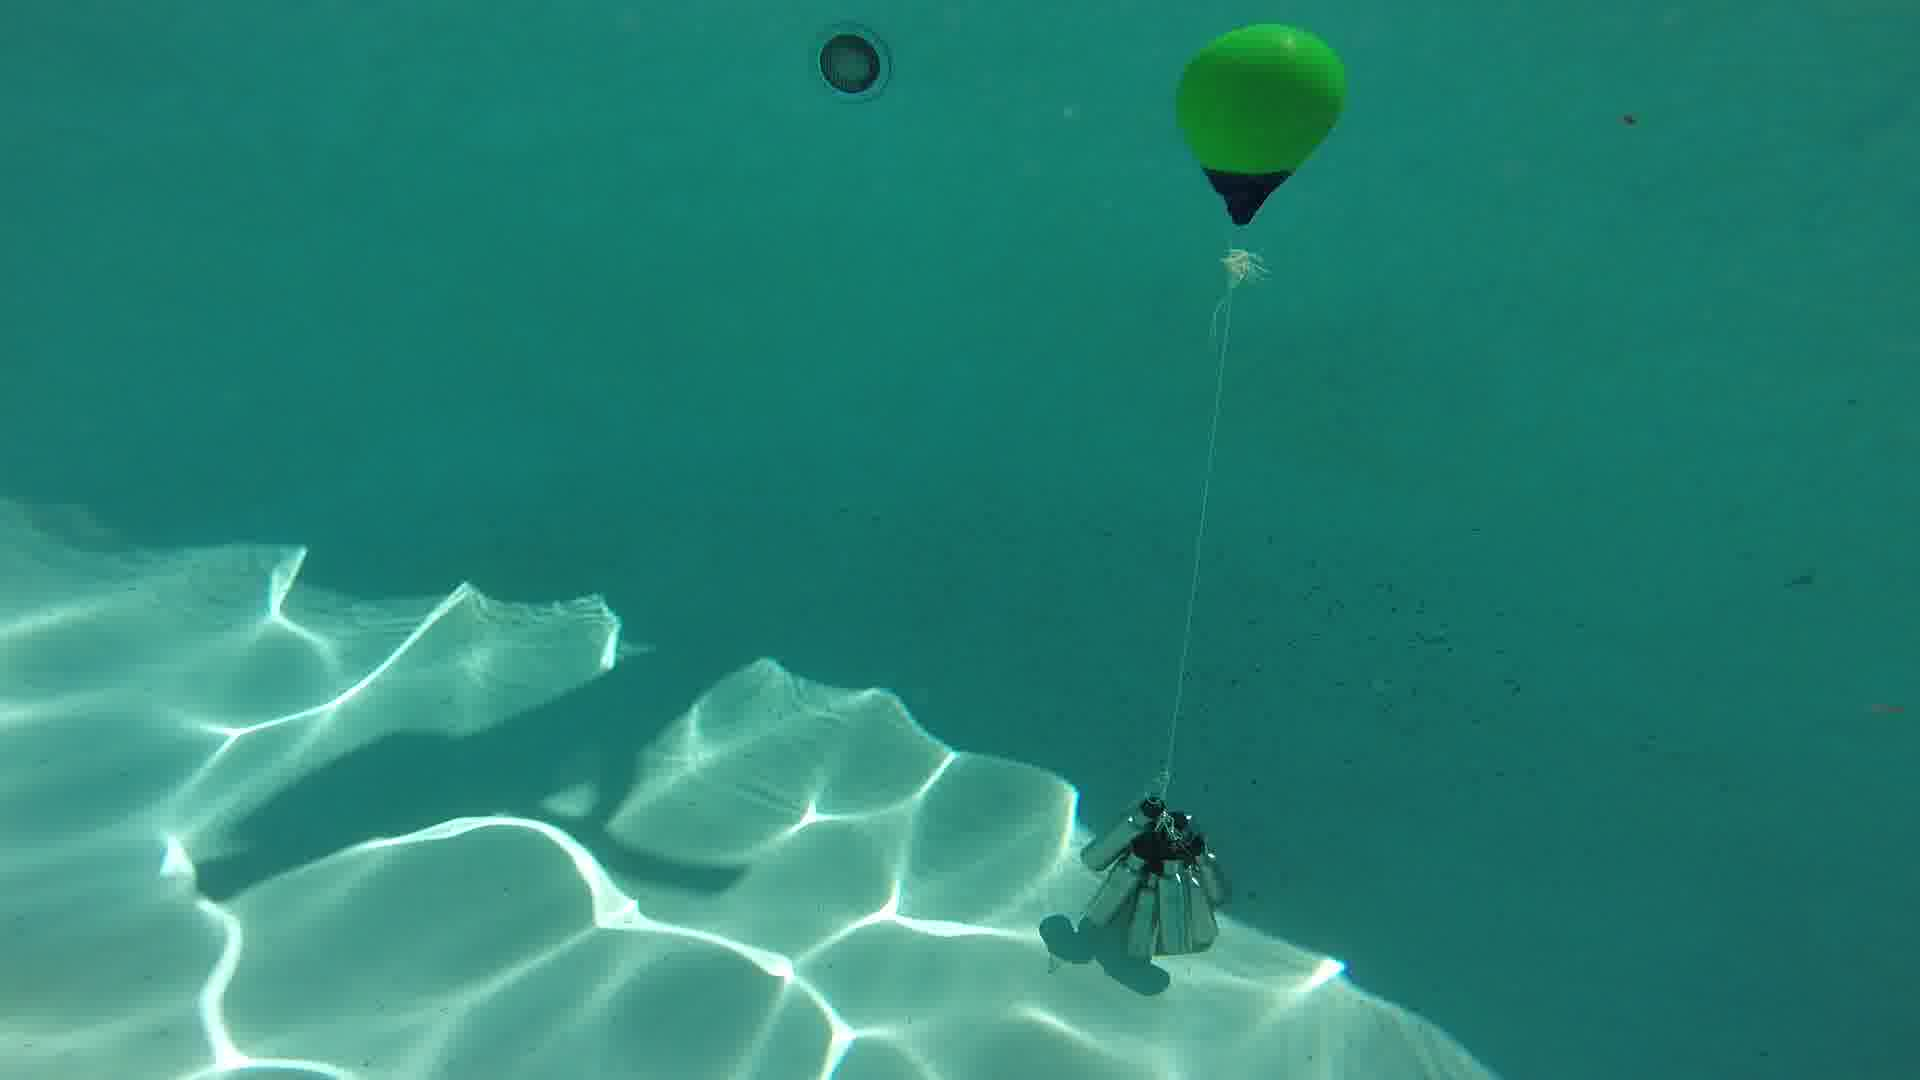yellow_buoy: (1174, 22, 1352, 228)
